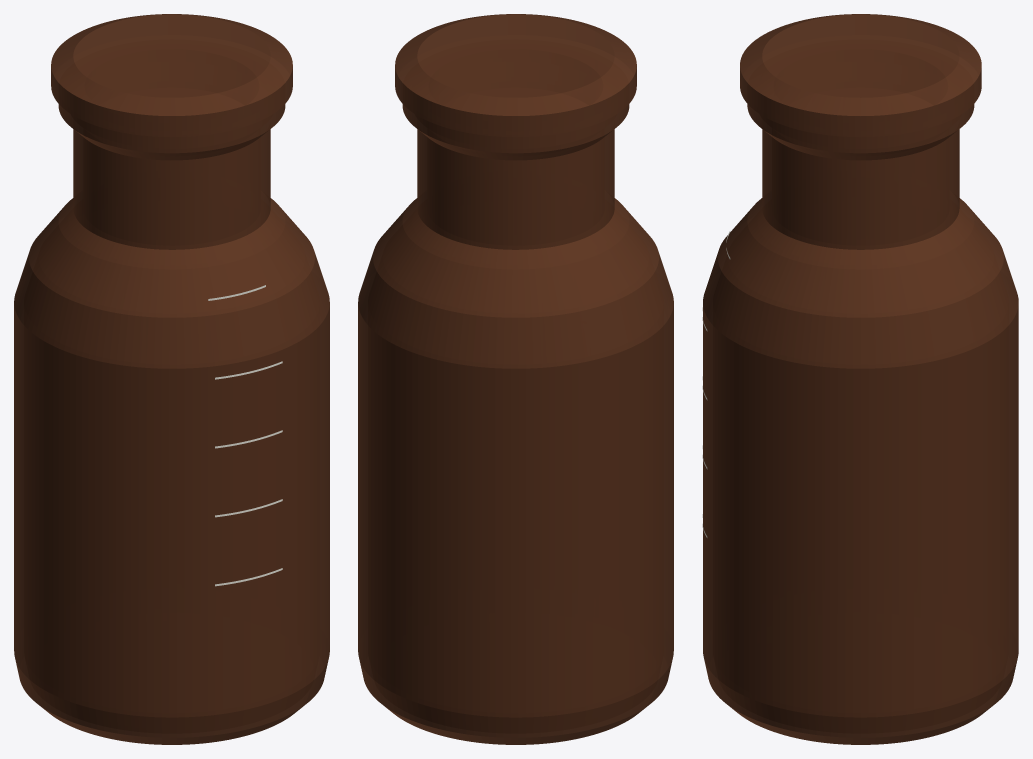
Rendered from preview.glb.
The picture shows the model from 3 angles, left to right: view 1: azimuth 30°, elevation 25°; view 2: azimuth 150°, elevation 25°; view 3: azimuth 270°, elevation 25°; orthographic projection.
Parts seen in each view (by area): view 1: Vessel_Vessel, Closure_Closure; view 2: Vessel_Vessel, Closure_Closure; view 3: Vessel_Vessel, Closure_Closure.
Part boxes in pixels (x1,y1,x2,y2): Vessel_Vessel: (14, 104, 329, 744); Closure_Closure: (51, 14, 292, 137); Vessel_Vessel: (358, 104, 673, 744); Closure_Closure: (395, 14, 636, 137); Vessel_Vessel: (703, 104, 1018, 744); Closure_Closure: (740, 14, 981, 137).
Bounding box in the file's own units: 0.064 × 0.141 × 0.0641.
